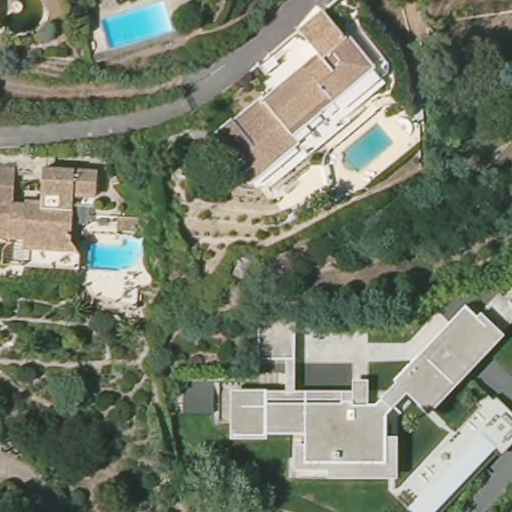pool: (100, 3, 173, 51), (339, 123, 394, 175), (84, 229, 146, 272)
